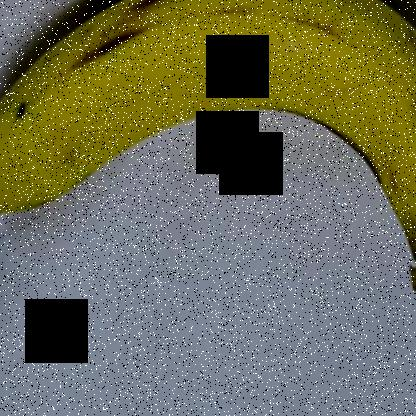freshripe: (0, 1, 415, 305)
